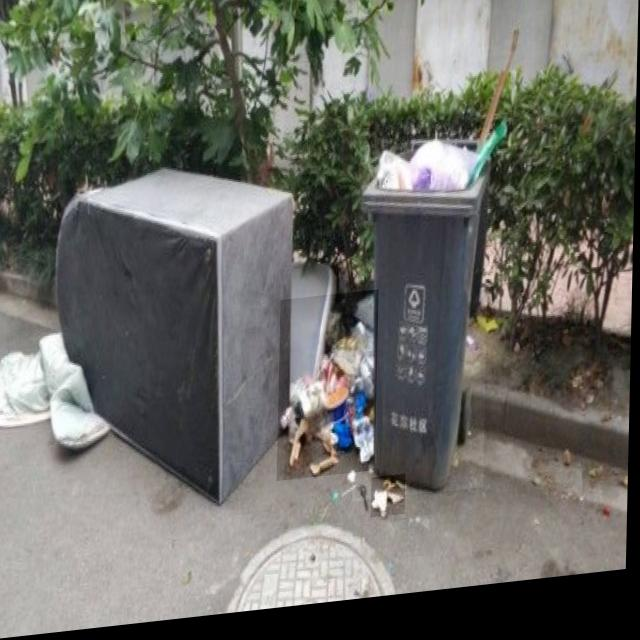garbage: (279, 298, 380, 488), (374, 484, 408, 527)
overflow: (355, 139, 492, 510)
